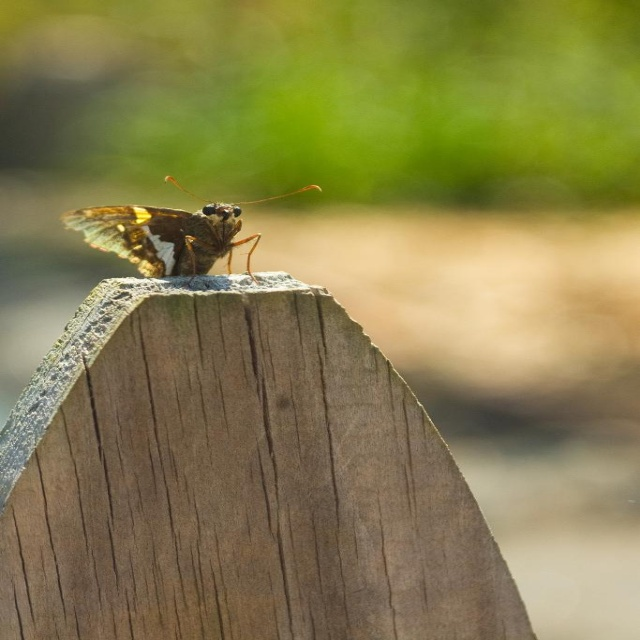Butterfly: (61, 178, 271, 279)
